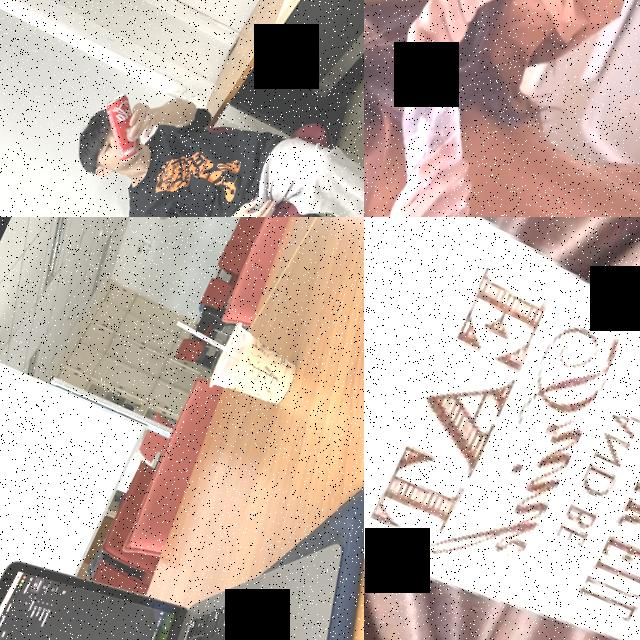bottle: (364, 43, 543, 217)
can: (85, 84, 162, 167)
cup: (364, 217, 640, 640), (204, 317, 307, 419)
